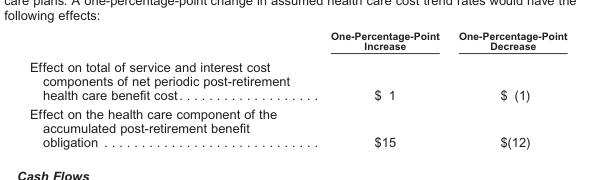table: (28, 29, 566, 148)
table column: (28, 29, 309, 148), (309, 29, 448, 148), (448, 29, 566, 148)
table column header: (28, 29, 566, 55)
table row: (28, 55, 566, 103), (28, 103, 566, 148), (28, 29, 566, 55)
